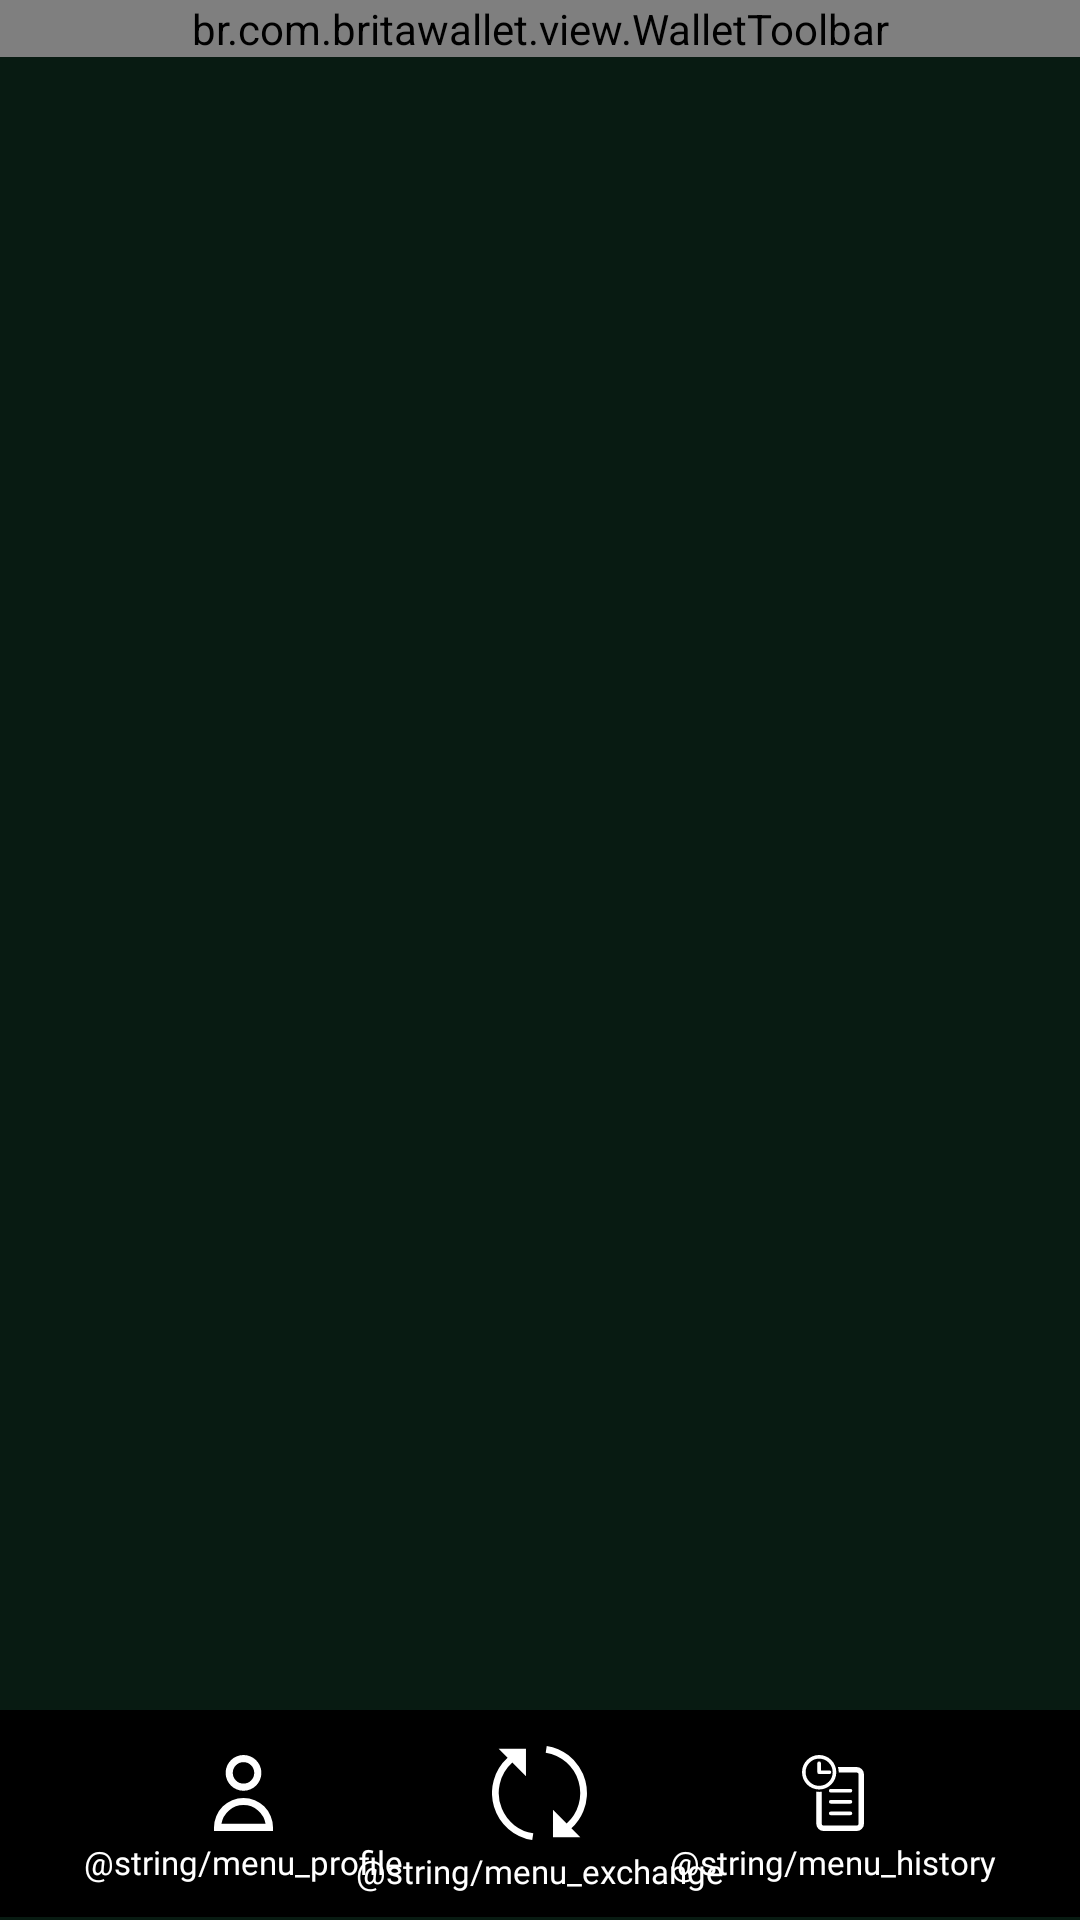

Icon bounding boxes for this 1080px×1920px phone screenshot, format (x1, y1, x2, y2):
user: (214, 1755, 273, 1831)
